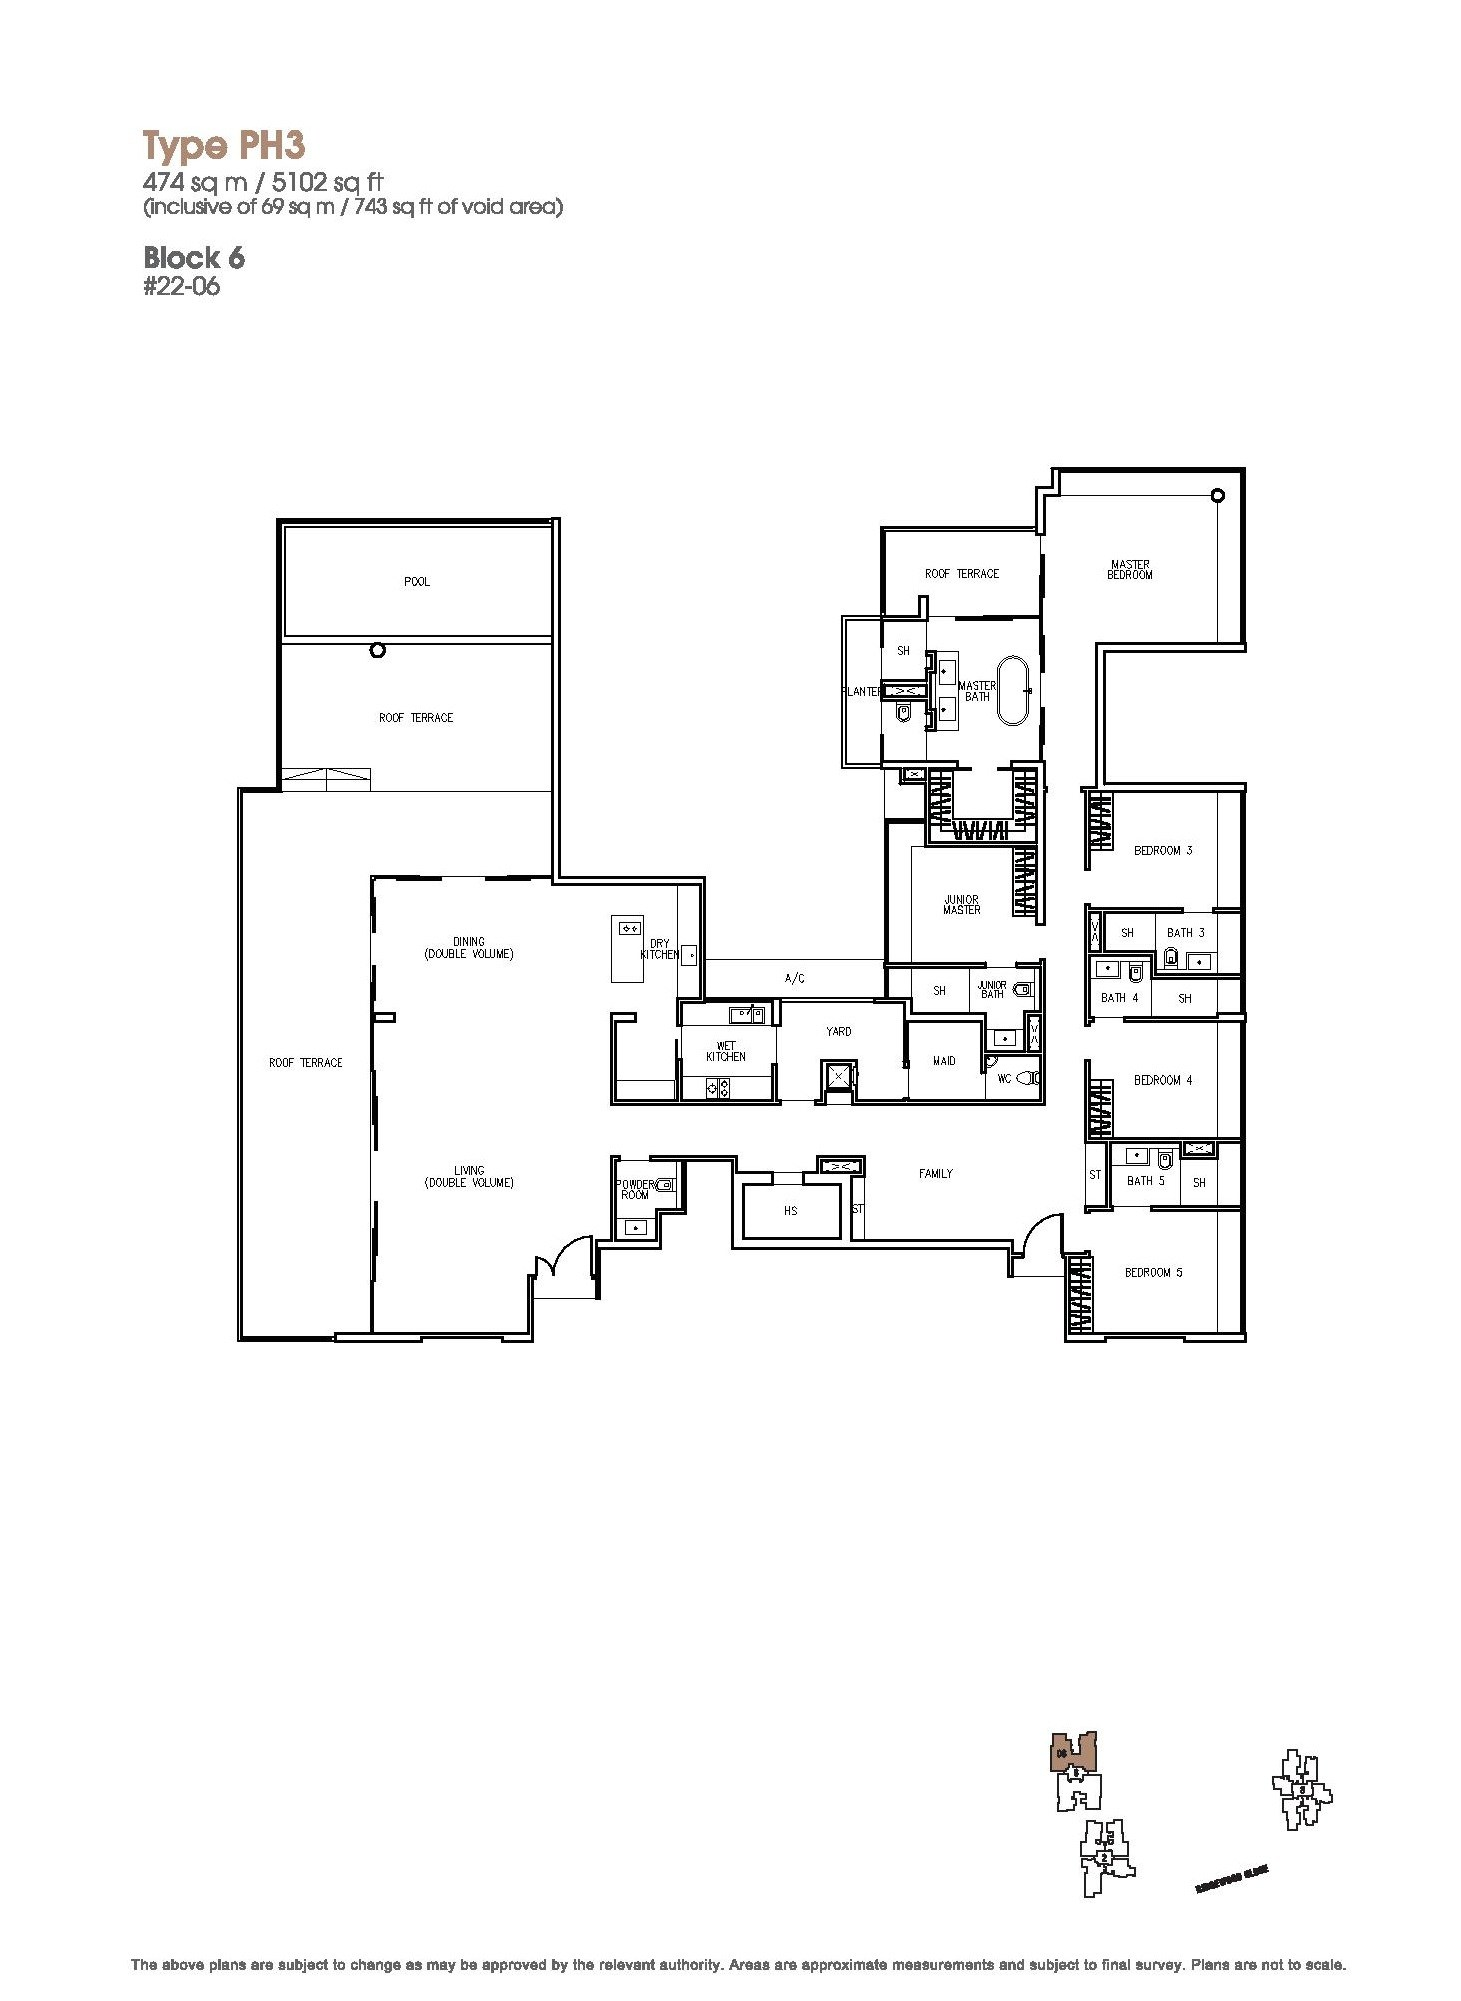door: (532, 1227, 595, 1275), (1020, 1209, 1068, 1248)
